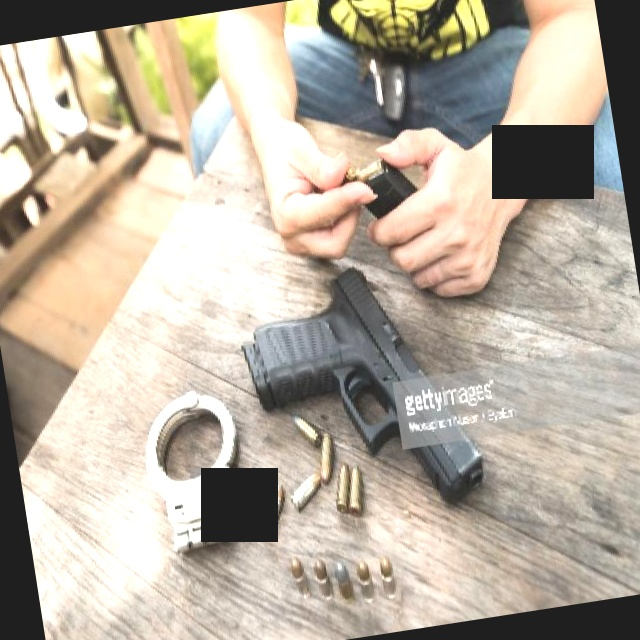gun: (227, 247, 491, 532)
